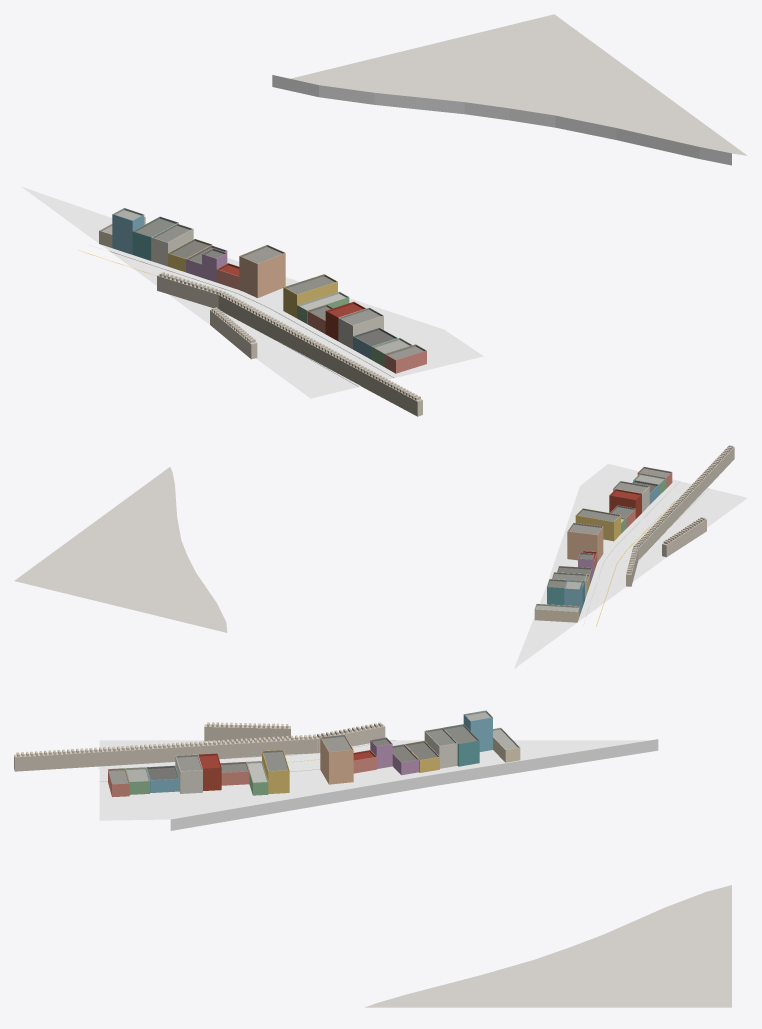
The picture shows the model from 3 angles, top to bottom: view 1: azimuth 30°, elevation 25°; view 2: azimuth 150°, elevation 25°; view 3: azimuth 270°, elevation 25°; orthographic projection. The views are drawn at different scales.
Visible parts, largest first — view 1: ground, walls, plaza, stone, coast, roofs, asphalt, sidewalk; view 2: ground, plaza, walls, asphalt, roofs, stone, sidewalk; view 3: ground, walls, stone, plaza, coast, roofs, asphalt.
Boxes of the visible parts, box(x1,y1,x2,y2) form: ground: box(290, 14, 747, 155); walls: box(99, 214, 426, 373); plaza: box(21, 186, 483, 398); stone: box(157, 272, 422, 416); coast: box(272, 75, 731, 165); roofs: box(99, 208, 426, 360); asphalt: box(35, 196, 454, 379); sidewalk: box(101, 244, 399, 386); ground: box(14, 467, 227, 632); plaza: box(514, 464, 747, 668); walls: box(534, 472, 672, 622); asphalt: box(525, 469, 691, 660); roofs: box(534, 467, 671, 611); stone: box(626, 445, 734, 586); sidewalk: box(578, 480, 709, 621); ground: box(365, 885, 731, 1007); walls: box(108, 714, 520, 797); stone: box(14, 722, 385, 771); plaza: box(99, 740, 649, 820); coast: box(170, 739, 658, 830); roofs: box(108, 710, 519, 784); asphalt: box(99, 740, 623, 807).
Size of what is drawn, in the model's own units: 260 by 19.15 by 290.
